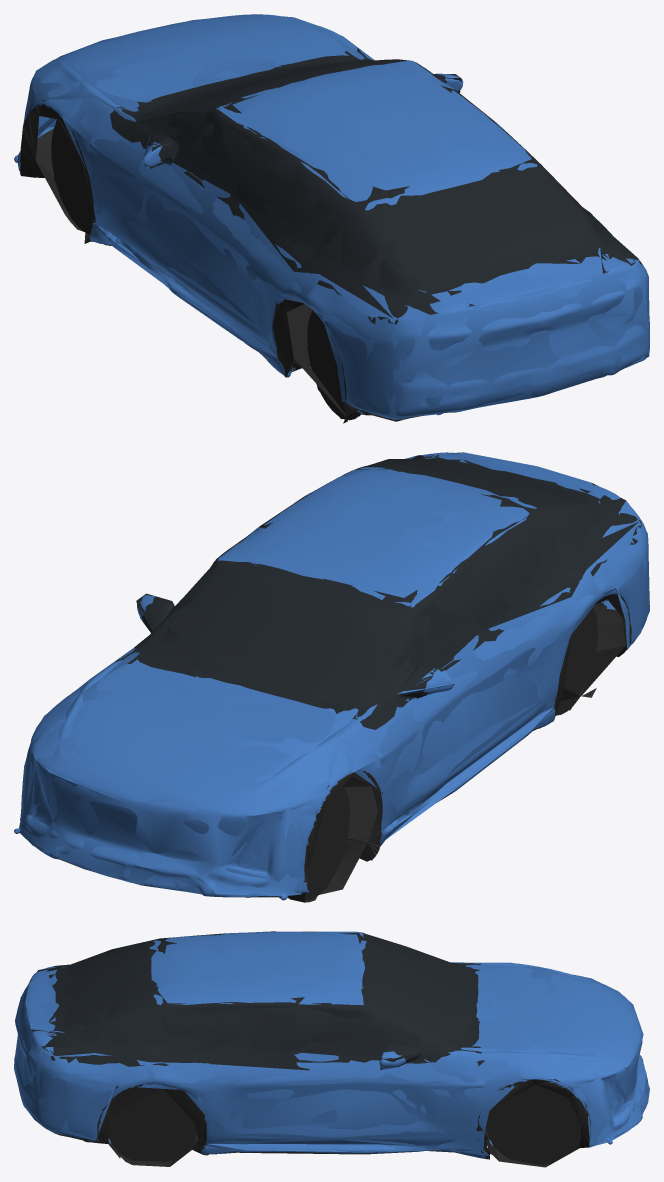
Rendered from cadillac-celestiq.glb.
3 views of the same model, one above another, from view 1: azimuth 30°, elevation 25°; view 2: azimuth 150°, elevation 25°; view 3: azimuth 270°, elevation 25° (orthographic). The views are drawn at different scales.
Parts seen in each view (by area): view 1: body, far; view 2: body, far; view 3: body, far.
Boxes of the visible parts, x1,y1,x2,y2 form: body: (14,14,649,423); far: (17,14,649,419); body: (14,452,649,902); far: (19,452,649,901); body: (14,931,649,1167); far: (14,931,649,1164).
Size of the model in its own units: 2.44 by 1.57 by 5.57.
